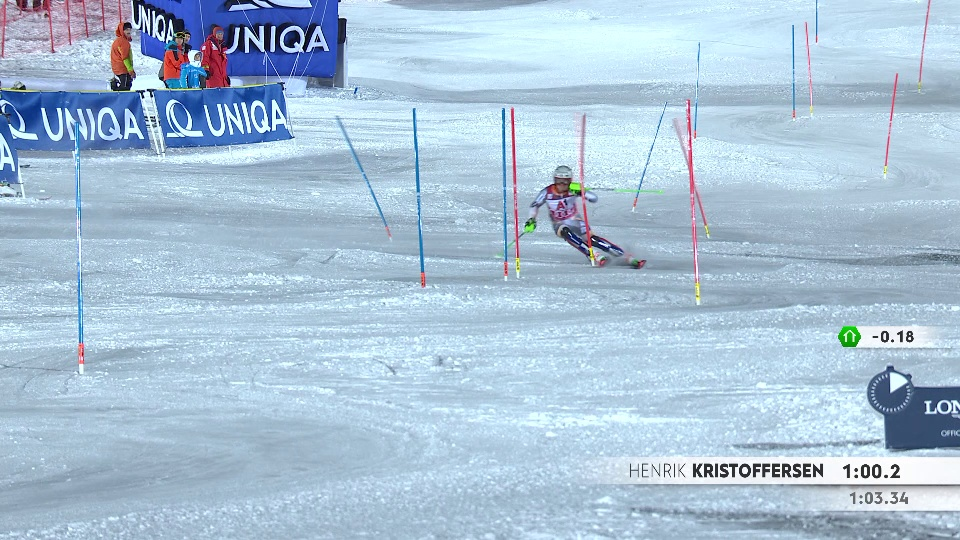a1: (559, 199, 575, 215)
uniqa: (1, 95, 144, 151), (162, 89, 291, 145), (213, 10, 338, 58)
